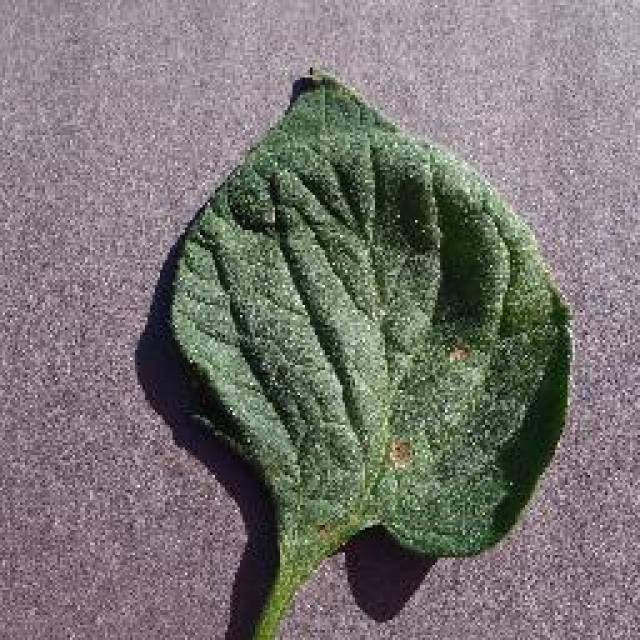Tomato Septoria spot leaf: (168, 71, 578, 556)
